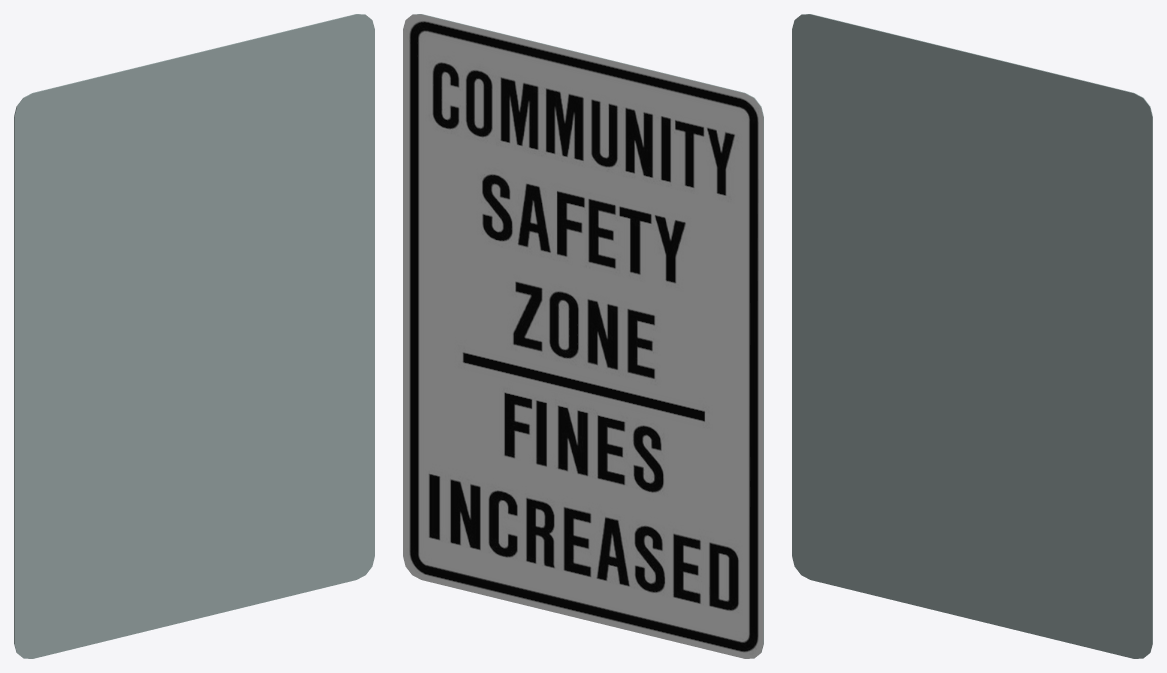
Rendered from community_zone.fbx.
3 views of the same model, side by side, from view 1: azimuth 30°, elevation 25°; view 2: azimuth 150°, elevation 25°; view 3: azimuth 330°, elevation 25° (orthographic).
Visible parts, largest first — view 1: Cube; view 2: Cube; view 3: Cube.
Boxes of the visible parts, x1=… form: Cube: x1=14, y1=14, x2=374, y2=658; Cube: x1=403, y1=14, x2=763, y2=658; Cube: x1=792, y1=14, x2=1152, y2=658.
Size of the model in its own units: 60 by 90 by 0.16.
